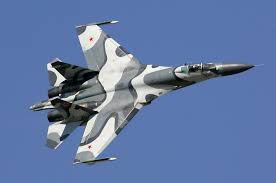fighter: (26, 16, 259, 166)
